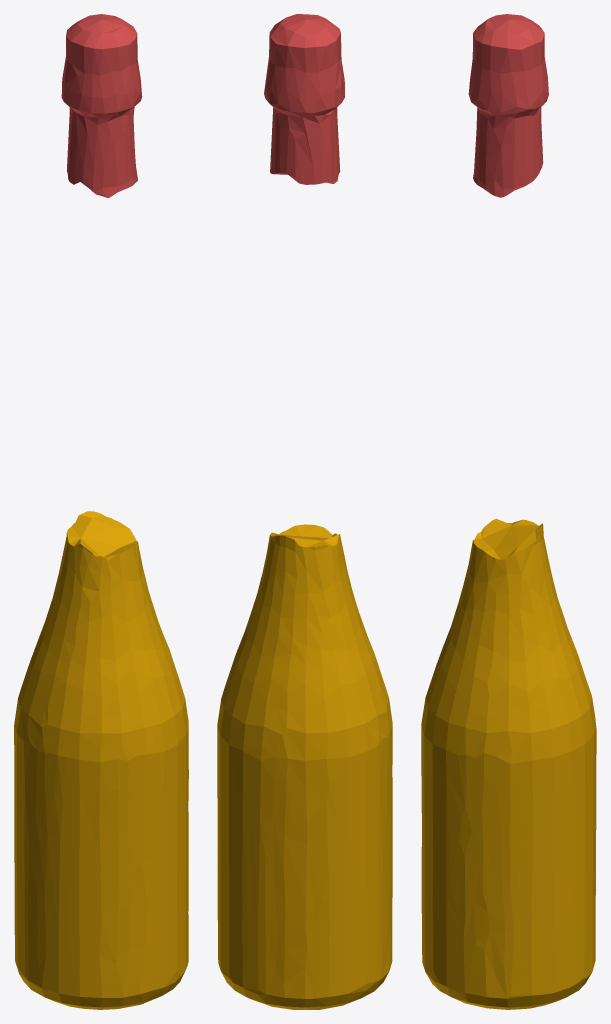
The model's file is fractured_55_2pcs_transformed.glb.
3 views of the same model, side by side, from view 1: azimuth 30°, elevation 25°; view 2: azimuth 150°, elevation 25°; view 3: azimuth 270°, elevation 25° (orthographic).
Parts seen in each view (by area): view 1: piece_0.obj, piece_1.obj; view 2: piece_0.obj, piece_1.obj; view 3: piece_0.obj, piece_1.obj.
Part boxes in pixels (bbox=[...]): piece_0.obj: bbox=[14, 511, 188, 1009]; piece_1.obj: bbox=[61, 14, 142, 198]; piece_0.obj: bbox=[217, 524, 392, 1009]; piece_1.obj: bbox=[264, 14, 344, 184]; piece_0.obj: bbox=[421, 518, 596, 1009]; piece_1.obj: bbox=[468, 14, 548, 197].
Bounding box in the file's own units: 0.2633 × 1.6 × 0.2631.
